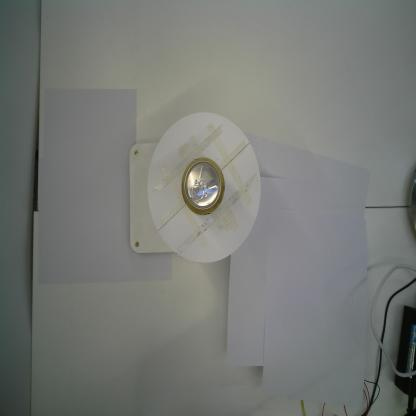Alcohol: (181, 156, 226, 217)
